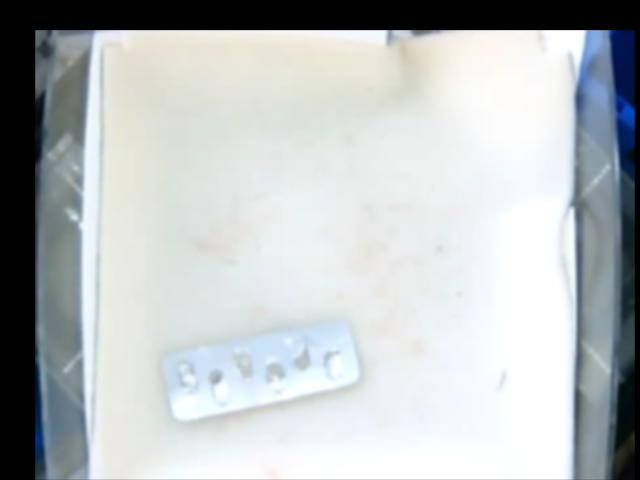Medicine: (156, 318, 360, 414)
